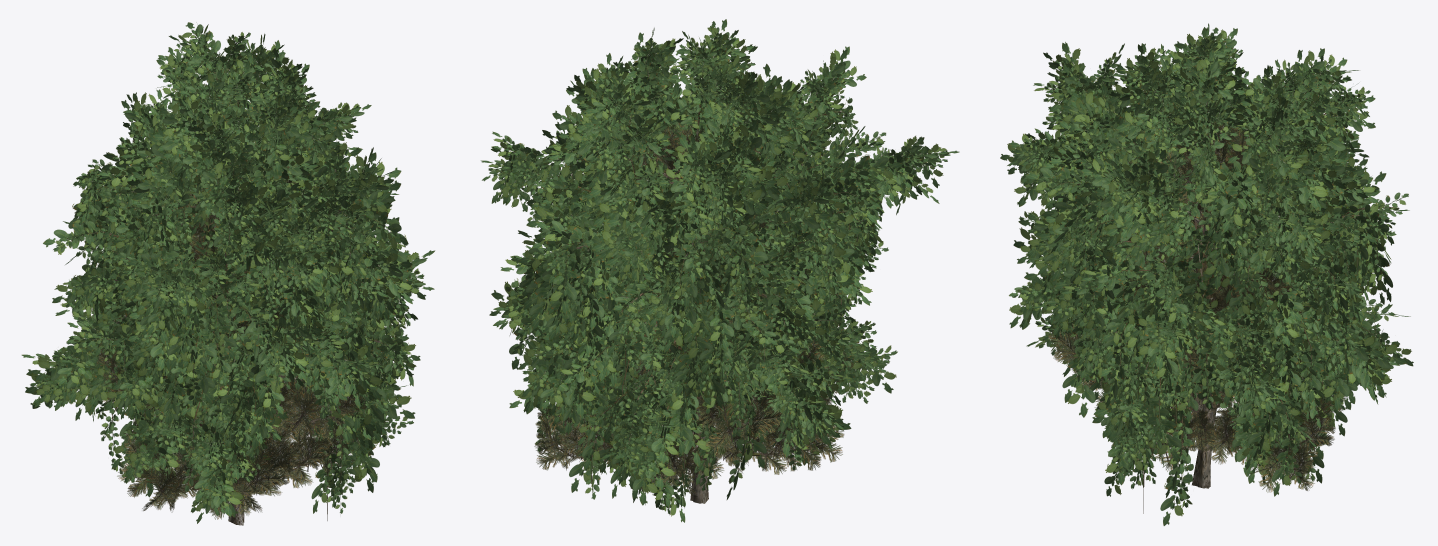
File: seasonal-trees.glb
The picture shows the model from 3 angles, left to right: view 1: azimuth 30°, elevation 25°; view 2: azimuth 150°, elevation 25°; view 3: azimuth 270°, elevation 25°; orthographic projection. The views are drawn at different scales.
Parts seen in each view (by area): view 1: birch__leaves__lod, maple__leaves__lod, willow__leaves, willow__leaves__lod, birch__leaves, maple__leaves, pine__leaves__lod, pine__leaves, willow__trunk, birch__trunk; view 2: willow__leaves__lod, birch__leaves__lod, willow__leaves, maple__leaves__lod, birch__leaves, maple__leaves, pine__leaves__lod, pine__leaves, willow__trunk, birch__trunk; view 3: willow__leaves__lod, willow__leaves, birch__leaves__lod, maple__leaves__lod, birch__leaves, maple__leaves, pine__leaves__lod, pine__leaves, willow__trunk, birch__trunk.
Part boxes in pixels (left/top/right/bottom): birch__leaves__lod: left=52, top=22, right=420, bottom=464; maple__leaves__lod: left=21, top=74, right=435, bottom=523; willow__leaves: left=53, top=116, right=418, bottom=513; willow__leaves__lod: left=43, top=101, right=434, bottom=513; birch__leaves: left=64, top=29, right=407, bottom=454; maple__leaves: left=30, top=122, right=424, bottom=515; pine__leaves__lod: left=79, top=166, right=367, bottom=519; pine__leaves: left=96, top=166, right=359, bottom=510; willow__trunk: left=83, top=169, right=400, bottom=520; birch__trunk: left=116, top=60, right=387, bottom=525; willow__leaves__lod: left=500, top=66, right=904, bottom=522; birch__leaves__lod: left=481, top=19, right=959, bottom=489; willow__leaves: left=512, top=69, right=889, bottom=513; maple__leaves__lod: left=489, top=63, right=896, bottom=505; birch__leaves: left=488, top=21, right=947, bottom=476; maple__leaves: left=503, top=81, right=897, bottom=487; pine__leaves__lod: left=534, top=121, right=853, bottom=496; pine__leaves: left=536, top=130, right=845, bottom=491; willow__trunk: left=527, top=122, right=868, bottom=514; birch__trunk: left=525, top=56, right=883, bottom=503; willow__leaves__lod: left=1023, top=44, right=1410, bottom=525; willow__leaves: left=1026, top=56, right=1408, bottom=509; birch__leaves__lod: left=1000, top=23, right=1413, bottom=428; maple__leaves__lod: left=1009, top=66, right=1407, bottom=483; birch__leaves: left=1011, top=31, right=1402, bottom=415; maple__leaves: left=1013, top=70, right=1399, bottom=470; pine__leaves__lod: left=1048, top=122, right=1348, bottom=492; pine__leaves: left=1058, top=126, right=1342, bottom=484; willow__trunk: left=1046, top=119, right=1398, bottom=513; birch__trunk: left=1103, top=64, right=1380, bottom=488.
Size of the model in its own units: 15.44 by 18.8 by 15.74.
5 materials, 5 textured.
